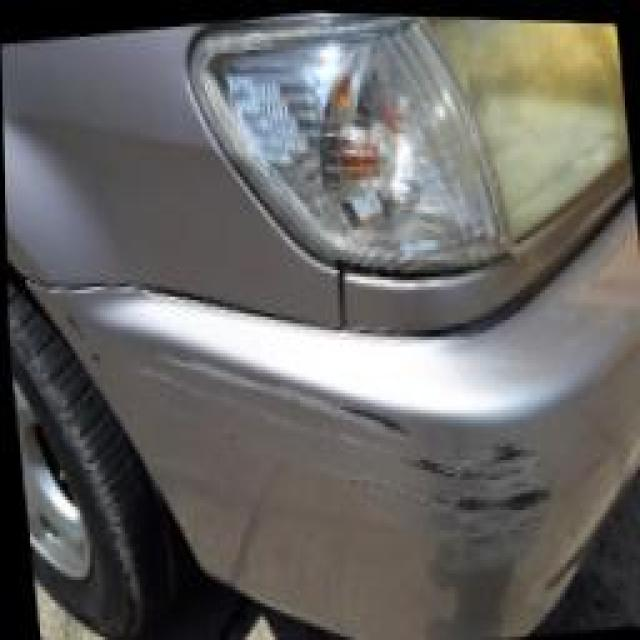Bumper: (125, 273, 636, 640)
Fender: (0, 20, 211, 310)
